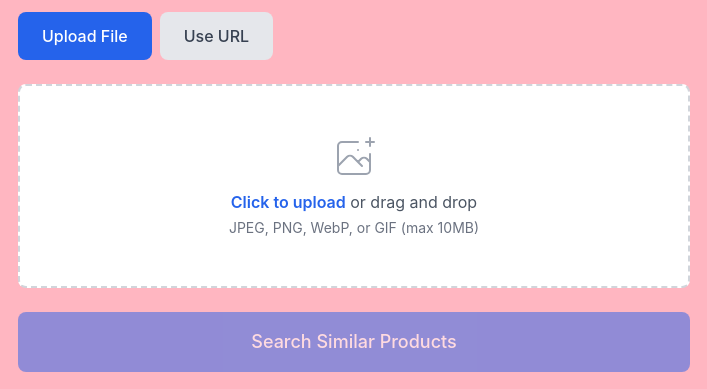
Test: UploadInterface › switches between file and URL input modes
Check: the text "Click to upload" is shown, box [231,192,346,212]
// Switch to URL mode
Step 1. Click the button "Use URL" → (216,36), box [160,12,273,60]
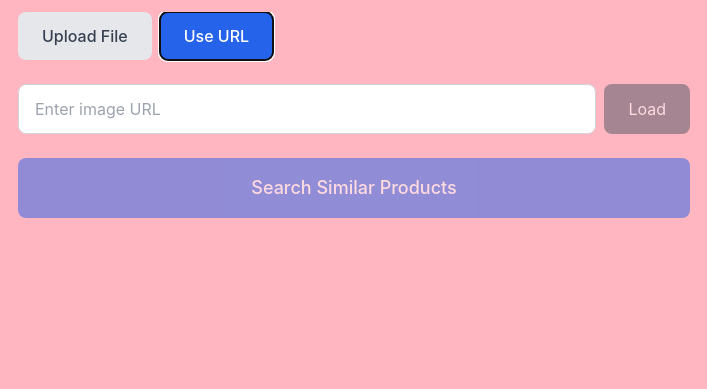
Check: the field with placeholder "Enter image URL" is shown, box [18,84,596,134]
// Switch back to file mode
Step 2. Click the button "Upload File" → (85,36), box [18,12,152,60]
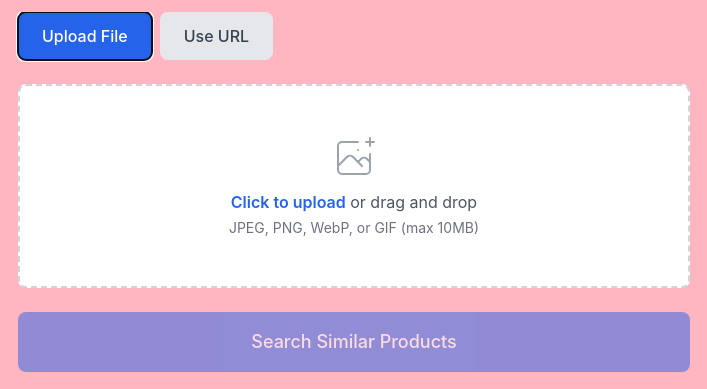
Check: the text "Click to upload" is shown, box [231,192,346,212]
